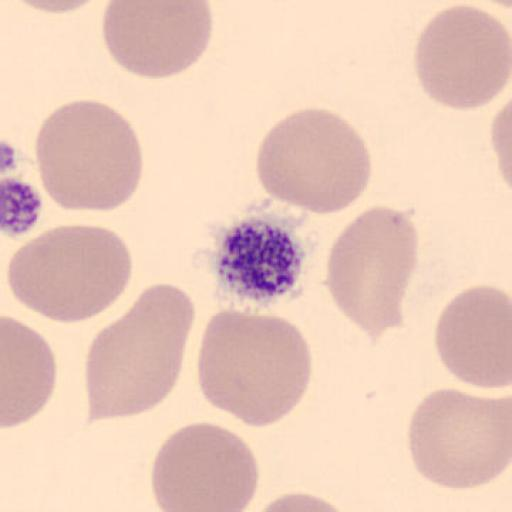Platelet: (211, 212, 310, 308)
RBC: (84, 283, 193, 422), (196, 306, 314, 429), (255, 106, 374, 217), (7, 222, 134, 324), (323, 203, 419, 337), (34, 98, 144, 214), (407, 386, 512, 492), (412, 3, 512, 113), (150, 420, 260, 512), (100, 0, 214, 80), (434, 283, 512, 390), (1, 314, 57, 428), (254, 491, 360, 512), (490, 95, 512, 195), (489, 100, 512, 176), (5, 0, 110, 16)
